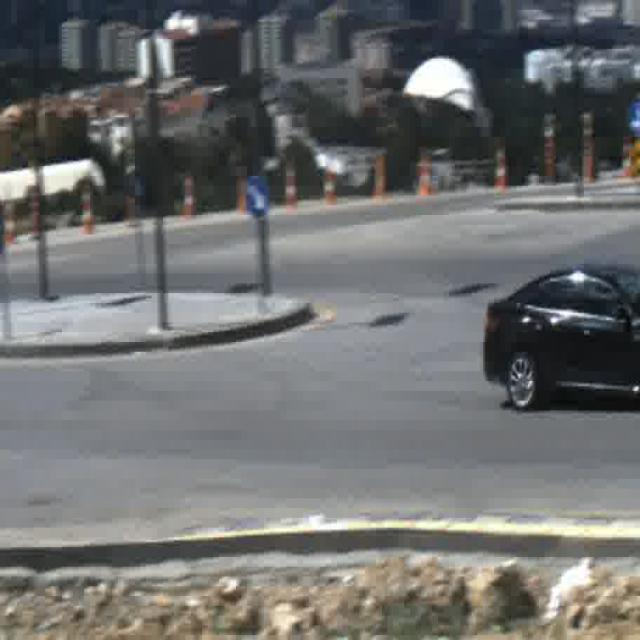Car: (480, 266, 640, 410)
